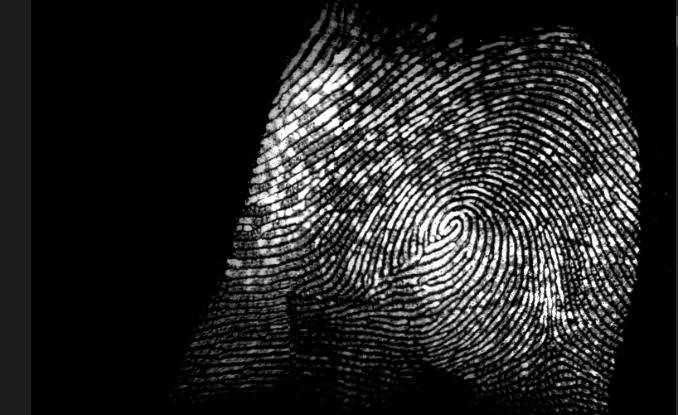nucelo: (424, 202, 472, 250)
verticilo: (367, 259, 413, 290), (533, 323, 571, 355)
